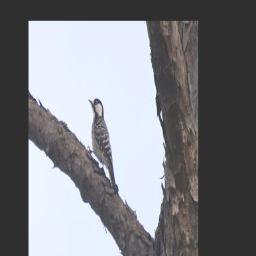Woodpecker: (85, 92, 121, 199)
